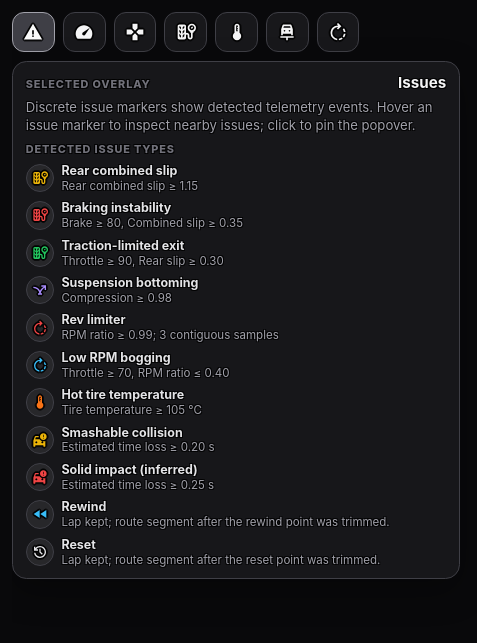
Test: OverlayToolbar › collapses the selected overlay info to only the selected overlay label
Click the button with aria-label "Collapse selected overlay info for Issues": [88, 84] box [26,73,446,92]
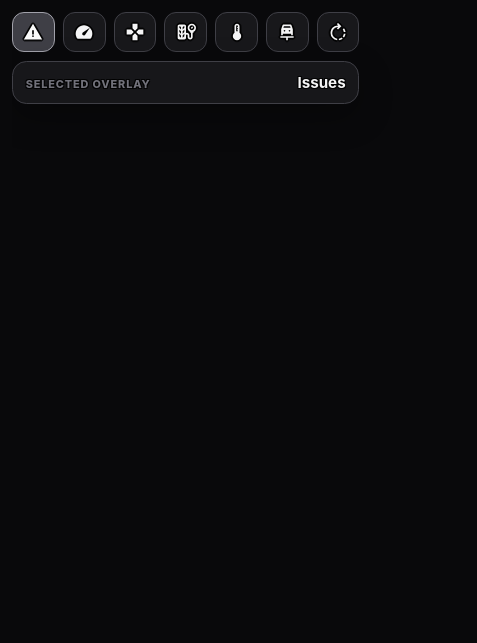
Check: the button named "Collapse selected overlay info for Issues" is collapsed
Check: the element with test id "overlay-legend" no longer shows "Discrete issue markers show detected telemetry events.", box [12,61,360,104]
Check: the element with test id "overlay-legend" no longer shows "Detected issue types", box [12,61,360,104]
Click the button named "Collapse selected overlay info for Issues": [88, 84] box [26,73,346,92]
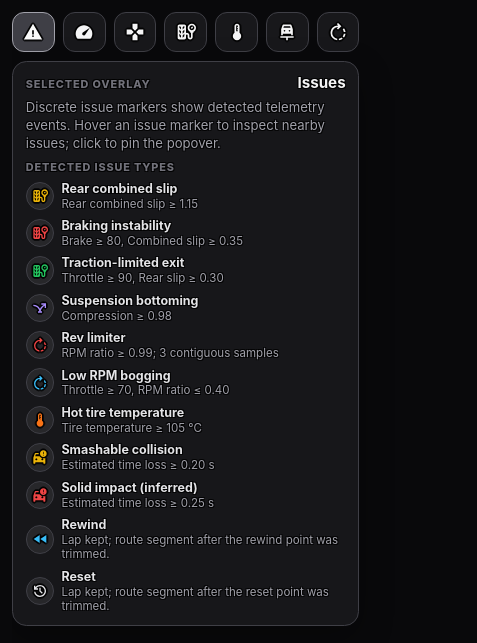
Check: the element with test id "overlay-legend" shows "Discrete issue markers show detected telemetry events.", box [26,99,325,151]
Check: the element with test id "overlay-legend" shows "Detected issue types", box [26,160,175,174]
Check: the number of list items is 11
